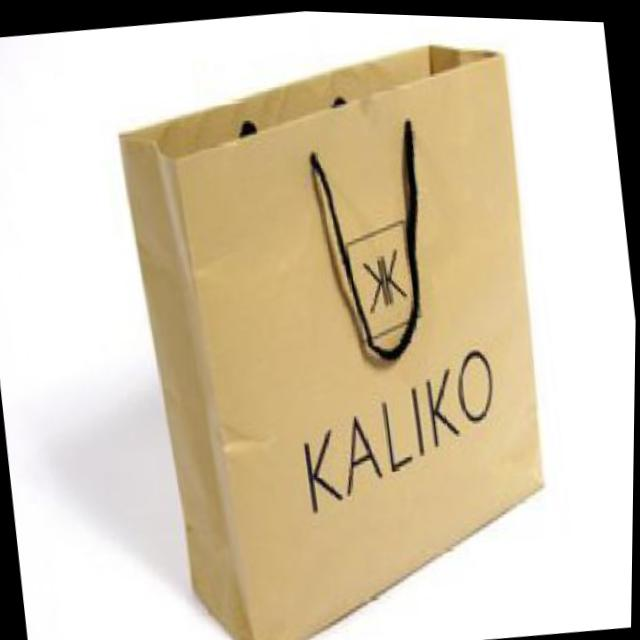box: (93, 3, 580, 640)
